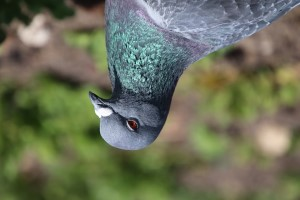pigeon: (83, 0, 229, 155)
